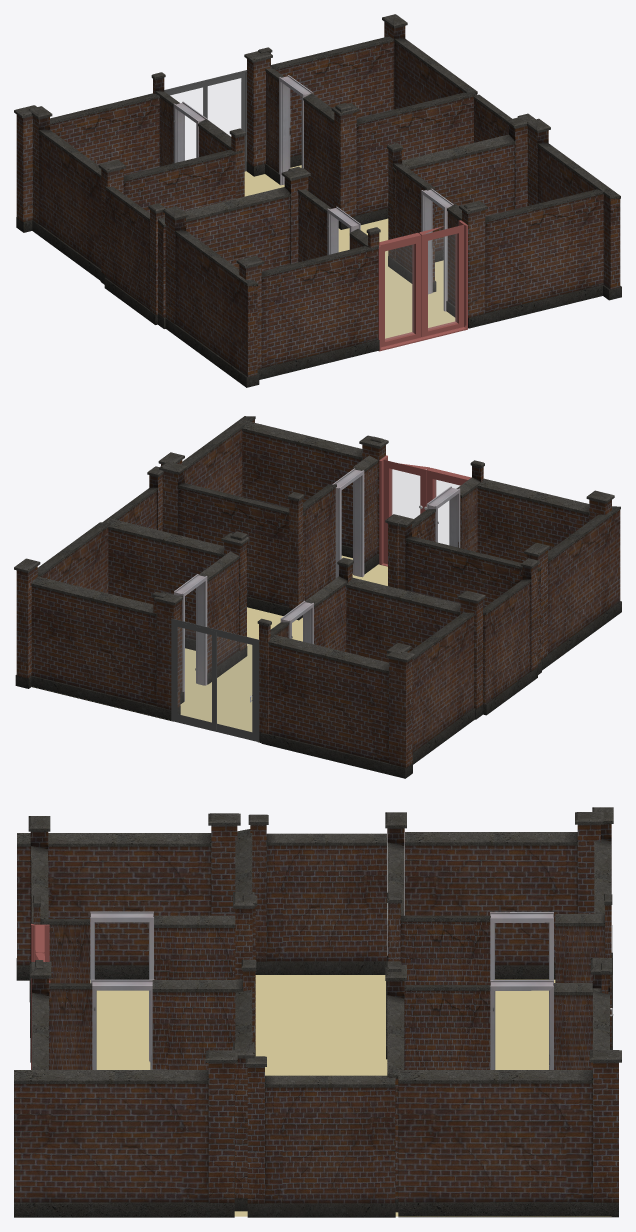
The model's file is stage.glb.
3 views of the same model, one above another, from view 1: azimuth 30°, elevation 25°; view 2: azimuth 150°, elevation 25°; view 3: azimuth 270°, elevation 25° (orthographic). The views are drawn at different scales.
Parts seen in each view (by area): view 1: 10061_Wall_SG_V1.049, 10061_Wall_SG_V1.050, 10061_Wall_SG_V1.045, 10061_Wall_SG_V1.004, DoubleFrenchDoor72x108, 10061_Wall_SG_V1.048, 10061_Wall_SG_V1.046, 10061_Wall_SG_V1.002, 10061_Wall_SG_V1.047, 10061_Wall_SG_V1, 10061_Wall_SG_V1.003, 10061_Wall_SG_V1.021 (+17 smaller); view 2: 10061_Wall_SG_V1.047, 10061_Wall_SG_V1.048, 10061_Wall_SG_V1, 10061_Wall_SG_V1.045, Slider84x105, 10061_Wall_SG_V1.049, 10061_Wall_SG_V1.004, 10061_Wall_SG_V1.003, 10061_Wall_SG_V1.046, 10061_Wall_SG_V1.050, 10061_Wall_SG_V1.002, 10061_Wall_SG_V1.021 (+16 smaller); view 3: 10061_Wall_SG_V1.012, 10061_Wall_SG_V1.044, Plane, 10061_Wall_SG_V1.022, 10061_Wall_SG_V1.045, 10061_Wall_SG_V1.046, 10061_Wall_SG_V1.021, 10061_Wall_SG_V1.010, 10061_Wall_SG_V1.051, 10061_Wall_SG_V1.011, 10061_Wall_SG_V1.009, 10061_Wall_SG_V1.054 (+16 smaller).
Boxes of the visible parts, left/top/right/bottom form: 10061_Wall_SG_V1.049: left=459, top=188, right=610, bottom=328; 10061_Wall_SG_V1.050: left=236, top=246, right=379, bottom=379; 10061_Wall_SG_V1.045: left=162, top=206, right=259, bottom=387; 10061_Wall_SG_V1.004: left=331, top=92, right=475, bottom=229; DoubleFrenchDoor72x108: left=378, top=220, right=467, bottom=351; 10061_Wall_SG_V1.048: left=244, top=36, right=393, bottom=176; 10061_Wall_SG_V1.046: left=28, top=106, right=101, bottom=280; 10061_Wall_SG_V1.002: left=158, top=167, right=310, bottom=328; 10061_Wall_SG_V1.047: left=14, top=93, right=159, bottom=232; 10061_Wall_SG_V1: left=393, top=115, right=531, bottom=262; 10061_Wall_SG_V1.003: left=98, top=149, right=242, bottom=284; 10061_Wall_SG_V1.021: left=104, top=186, right=165, bottom=324; 10061_Wall_SG_V1.047: left=261, top=634, right=415, bottom=778; 10061_Wall_SG_V1.048: left=31, top=576, right=182, bottom=720; 10061_Wall_SG_V1: left=159, top=461, right=305, bottom=615; 10061_Wall_SG_V1.045: left=524, top=506, right=621, bottom=670; Slider84x105: left=171, top=618, right=259, bottom=742; 10061_Wall_SG_V1.049: left=238, top=419, right=388, bottom=564; 10061_Wall_SG_V1.004: left=106, top=518, right=249, bottom=661; 10061_Wall_SG_V1.003: left=345, top=577, right=485, bottom=719; 10061_Wall_SG_V1.046: left=387, top=612, right=474, bottom=764; 10061_Wall_SG_V1.050: left=477, top=478, right=614, bottom=562; 10061_Wall_SG_V1.002: left=385, top=514, right=541, bottom=674; 10061_Wall_SG_V1.021: left=483, top=558, right=539, bottom=715; 10061_Wall_SG_V1.012: left=398, top=1050, right=621, bottom=1217; 10061_Wall_SG_V1.044: left=14, top=1050, right=237, bottom=1217; Plane: left=90, top=975, right=611, bottom=1216; 10061_Wall_SG_V1.022: left=245, top=1056, right=395, bottom=1217; 10061_Wall_SG_V1.045: left=16, top=813, right=240, bottom=980; 10061_Wall_SG_V1.046: left=405, top=812, right=603, bottom=979; 10061_Wall_SG_V1.021: left=248, top=814, right=387, bottom=974; 10061_Wall_SG_V1.010: left=152, top=959, right=256, bottom=1115; 10061_Wall_SG_V1.051: left=386, top=961, right=490, bottom=1069; 10061_Wall_SG_V1.011: left=387, top=892, right=490, bottom=984; 10061_Wall_SG_V1.009: left=153, top=895, right=257, bottom=1056; 10061_Wall_SG_V1.054: left=35, top=960, right=92, bottom=1069.
Bounding box in the file's own units: 16.7 × 5.16 × 16.98.
Materials: 10 (3 with a texture image).
